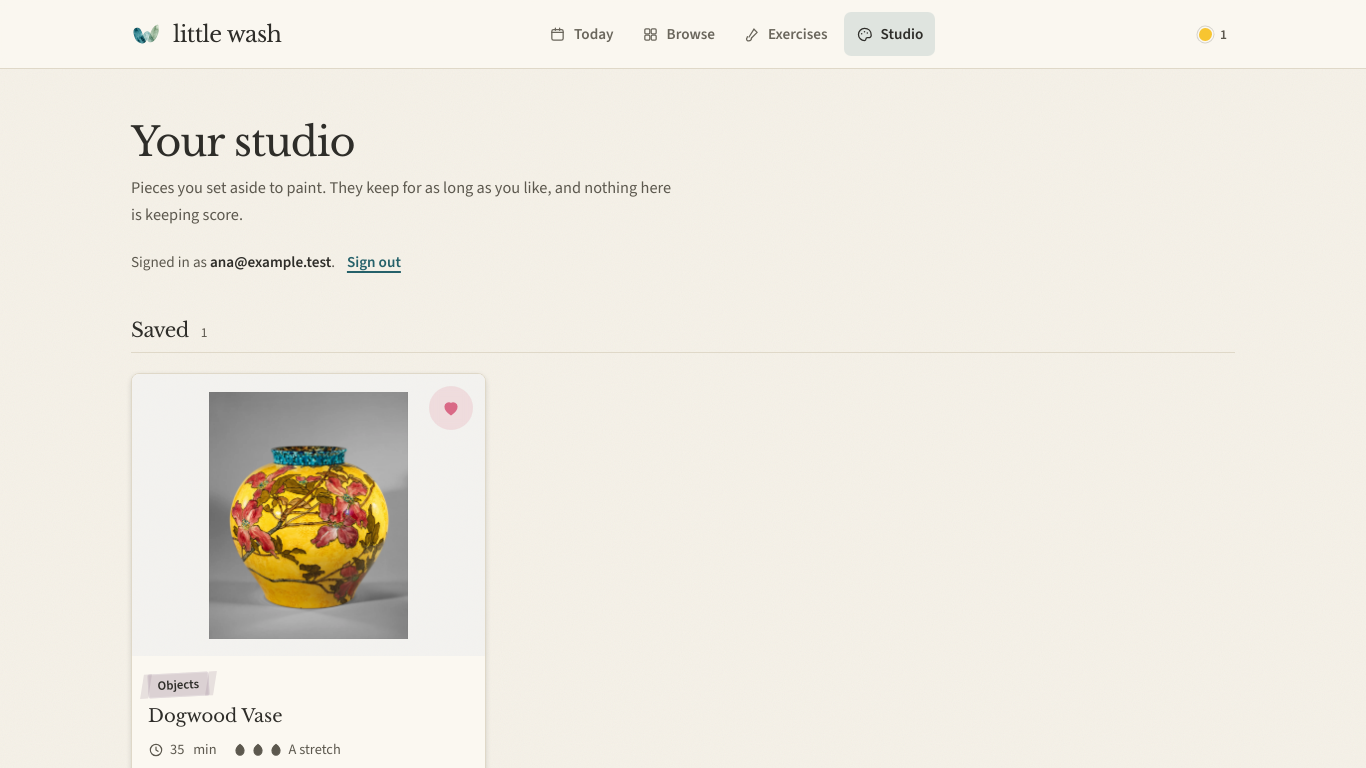
Test: signed in › signs out, leaving an empty studio and a word about where things went
The image size is (1366, 768).
Click the button "Sign out" at (374, 262), box x1=343 y1=240 x2=405 y2=284
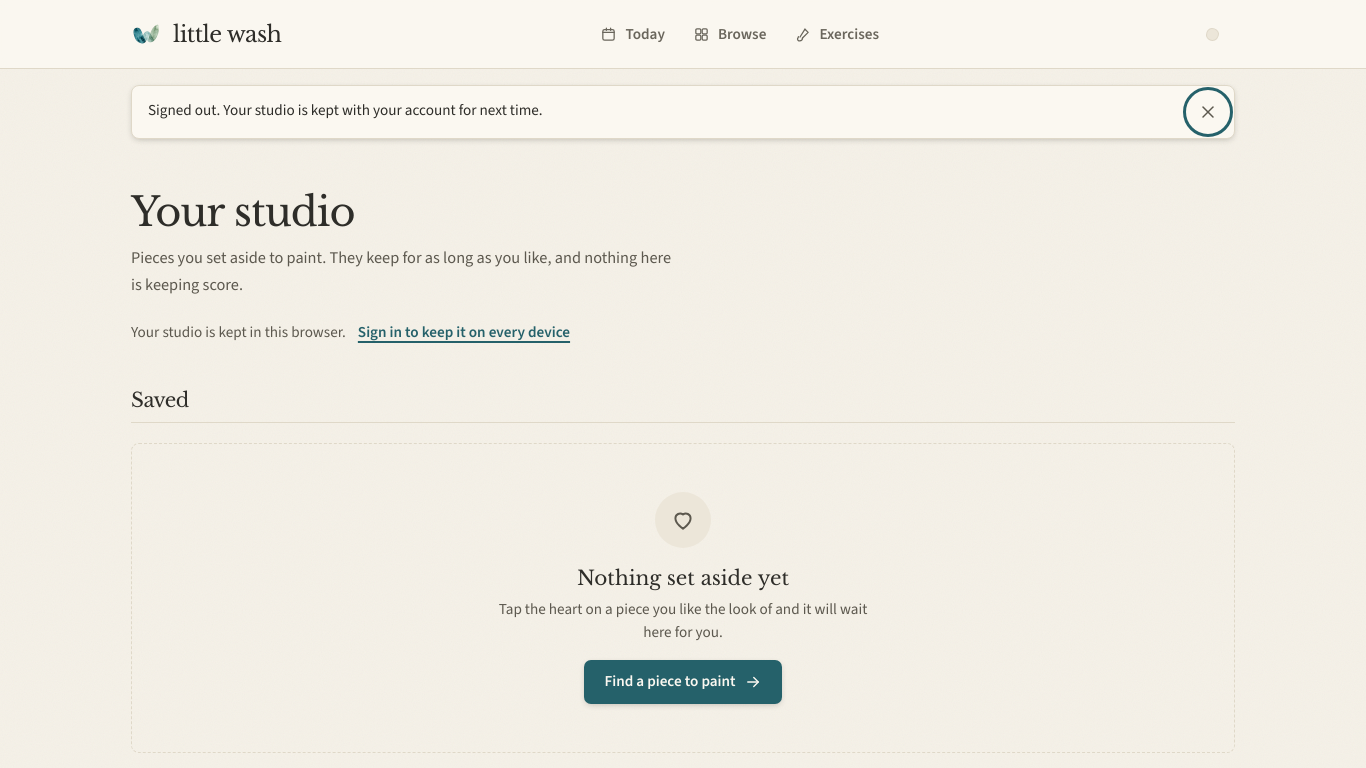
Expected: the text "Your studio is kept in this browser." is shown, x1=131 y1=321 x2=346 y2=343
Expected: the link "Dogwood Vase" is gone
